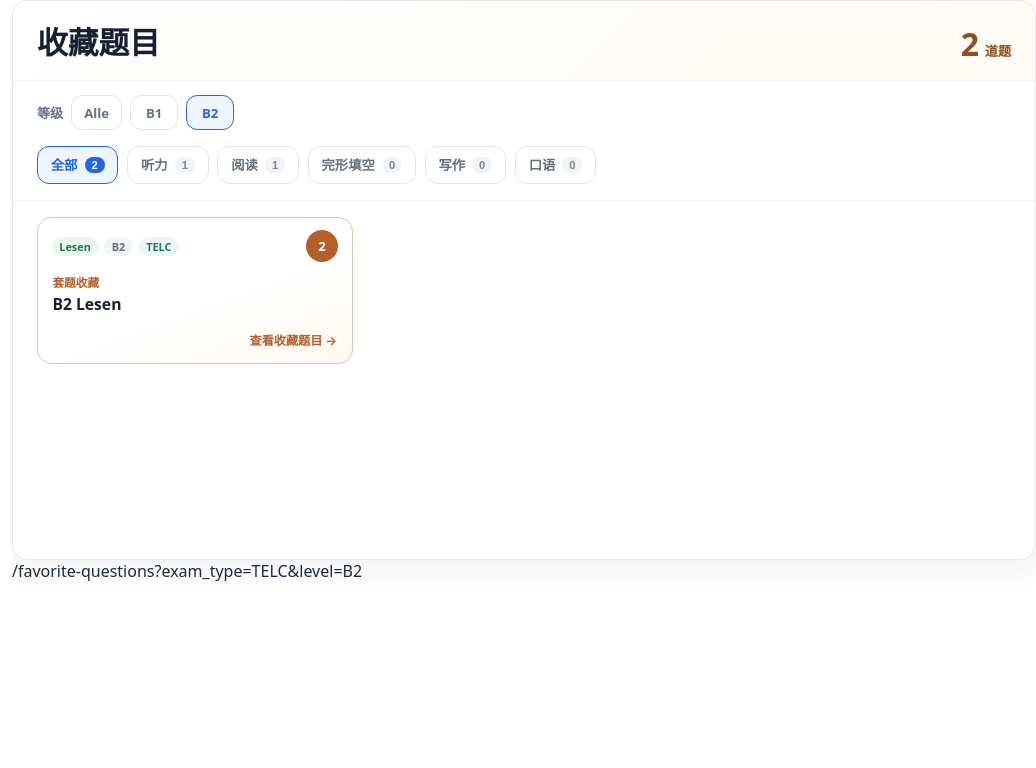
Test: FavoriteQuestionsPage › preserves the scope when opening and leaving an exercise collection
This screenshot has width=1036, height=768.
Click the link "套题收藏 B2 Lesen 查看收藏题目 →".
click(76, 282)  # box [38,262,352,364]
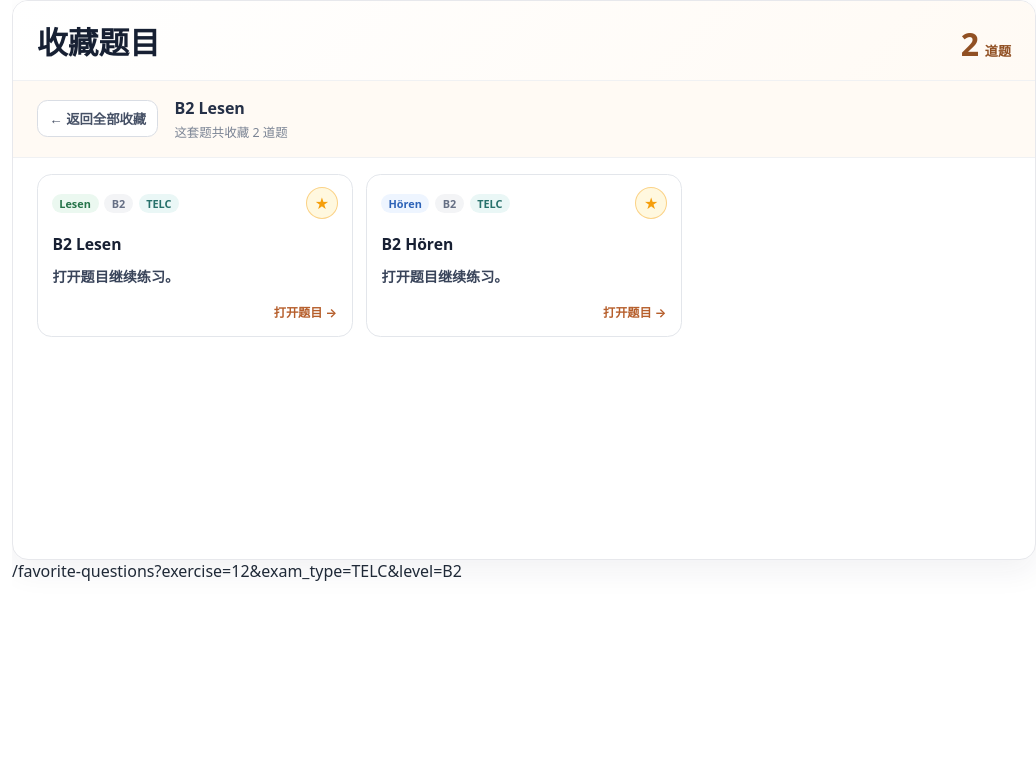
Check: the button "← 返回全部收藏" is shown
Check: the text with test id "location" reads "/favorite-questions?exercise=12&exam_type=TELC&level=B2", box [12,560,462,582]
Click the button "← 返回全部收藏".
click(98, 119)  # box [37,100,158,137]
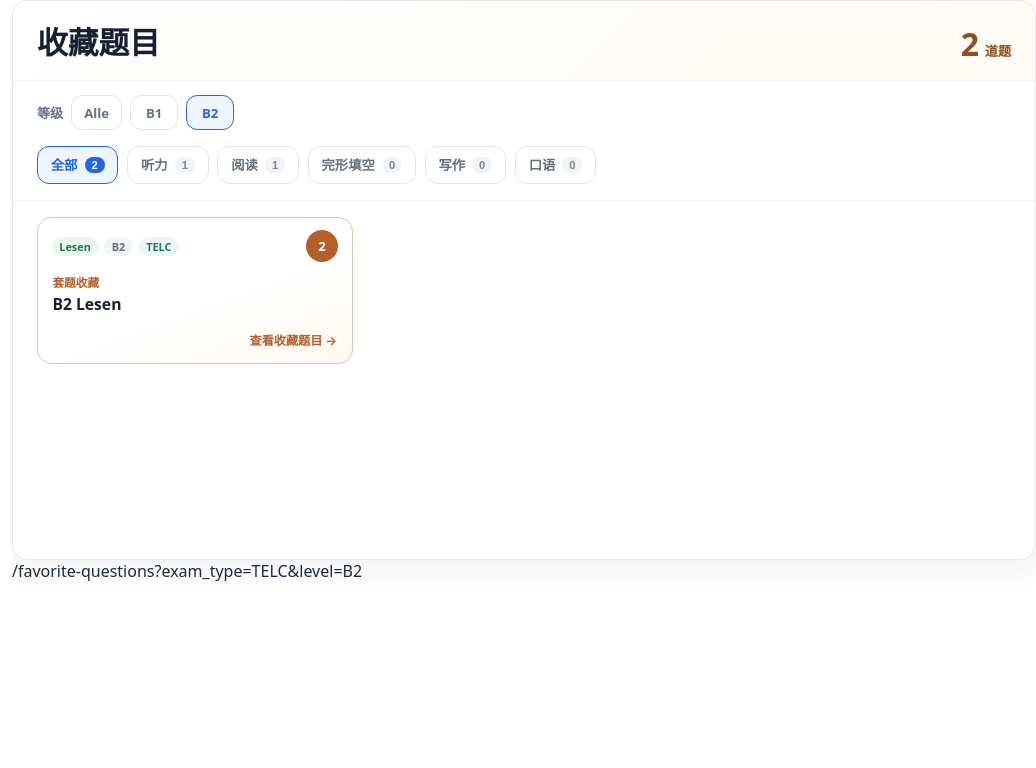
Check: the text with test id "location" reads "/favorite-questions?exam_type=TELC&level=B2", box [12,560,362,582]
